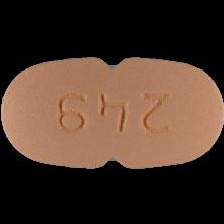53808-0937: (0, 0, 224, 224)
